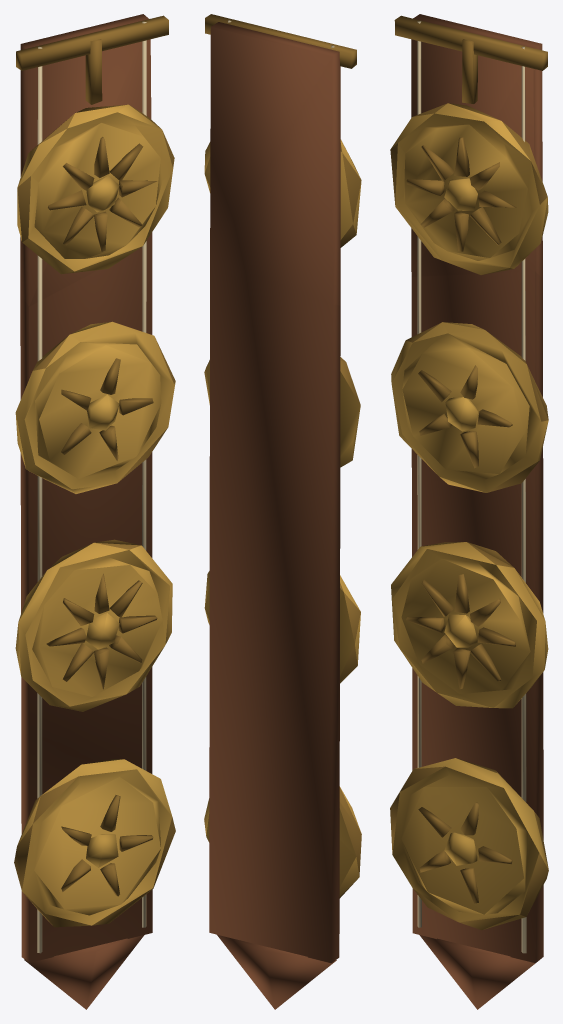
File: ember_horse_brass_lod2.glb
3 views of the same model, side by side, from view 1: azimuth 30°, elevation 25°; view 2: azimuth 150°, elevation 25°; view 3: azimuth 330°, elevation 25° (orthographic).
Parts seen in each view (by area): view 1: ember_horse_brass.001; view 2: ember_horse_brass.001; view 3: ember_horse_brass.001.
Boxes of the visible parts, x1,y1,x2,y2 form: ember_horse_brass.001: (14, 14, 175, 1009); ember_horse_brass.001: (204, 14, 361, 1009); ember_horse_brass.001: (390, 14, 548, 1009).
Size of the model in its own units: 7.63 by 44.9 by 2.55.
